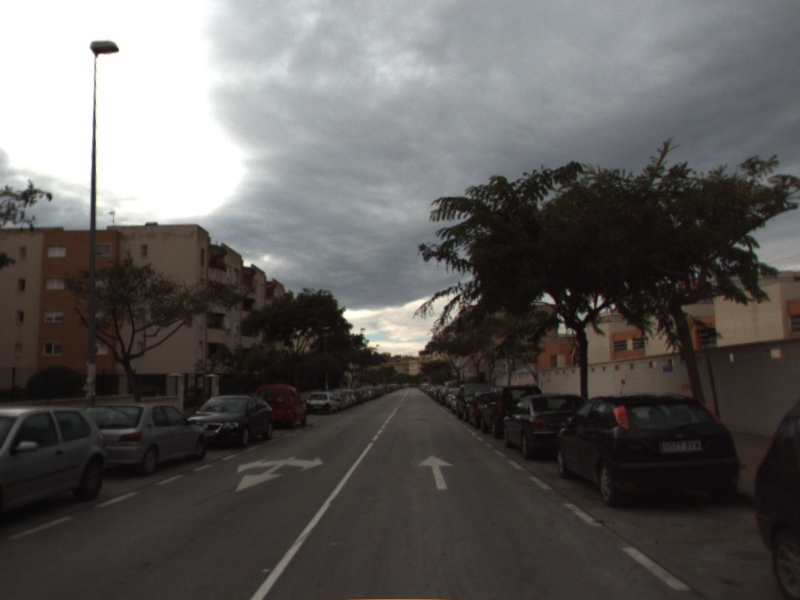STRAIGHT: (415, 453, 455, 491)
